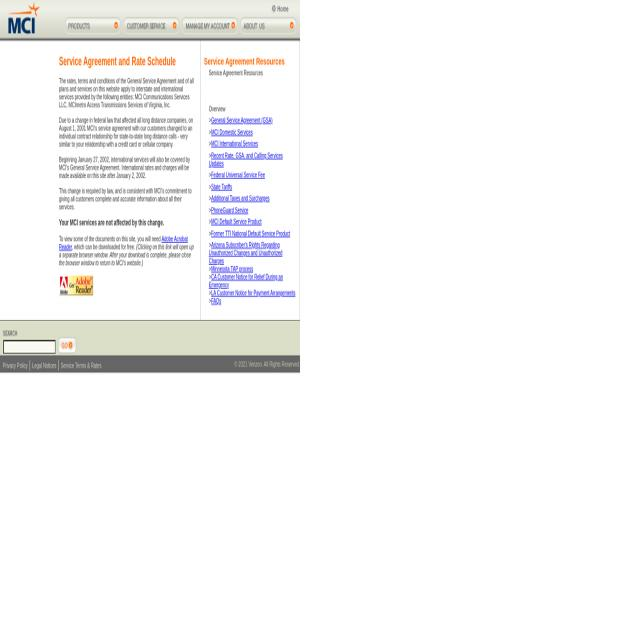button: (0, 0, 40, 40), (65, 18, 121, 34), (124, 18, 180, 34), (182, 18, 238, 34), (240, 18, 296, 34), (59, 274, 94, 296), (271, 0, 292, 17), (58, 337, 76, 354), (3, 330, 17, 338)
field: (3, 340, 56, 354)
